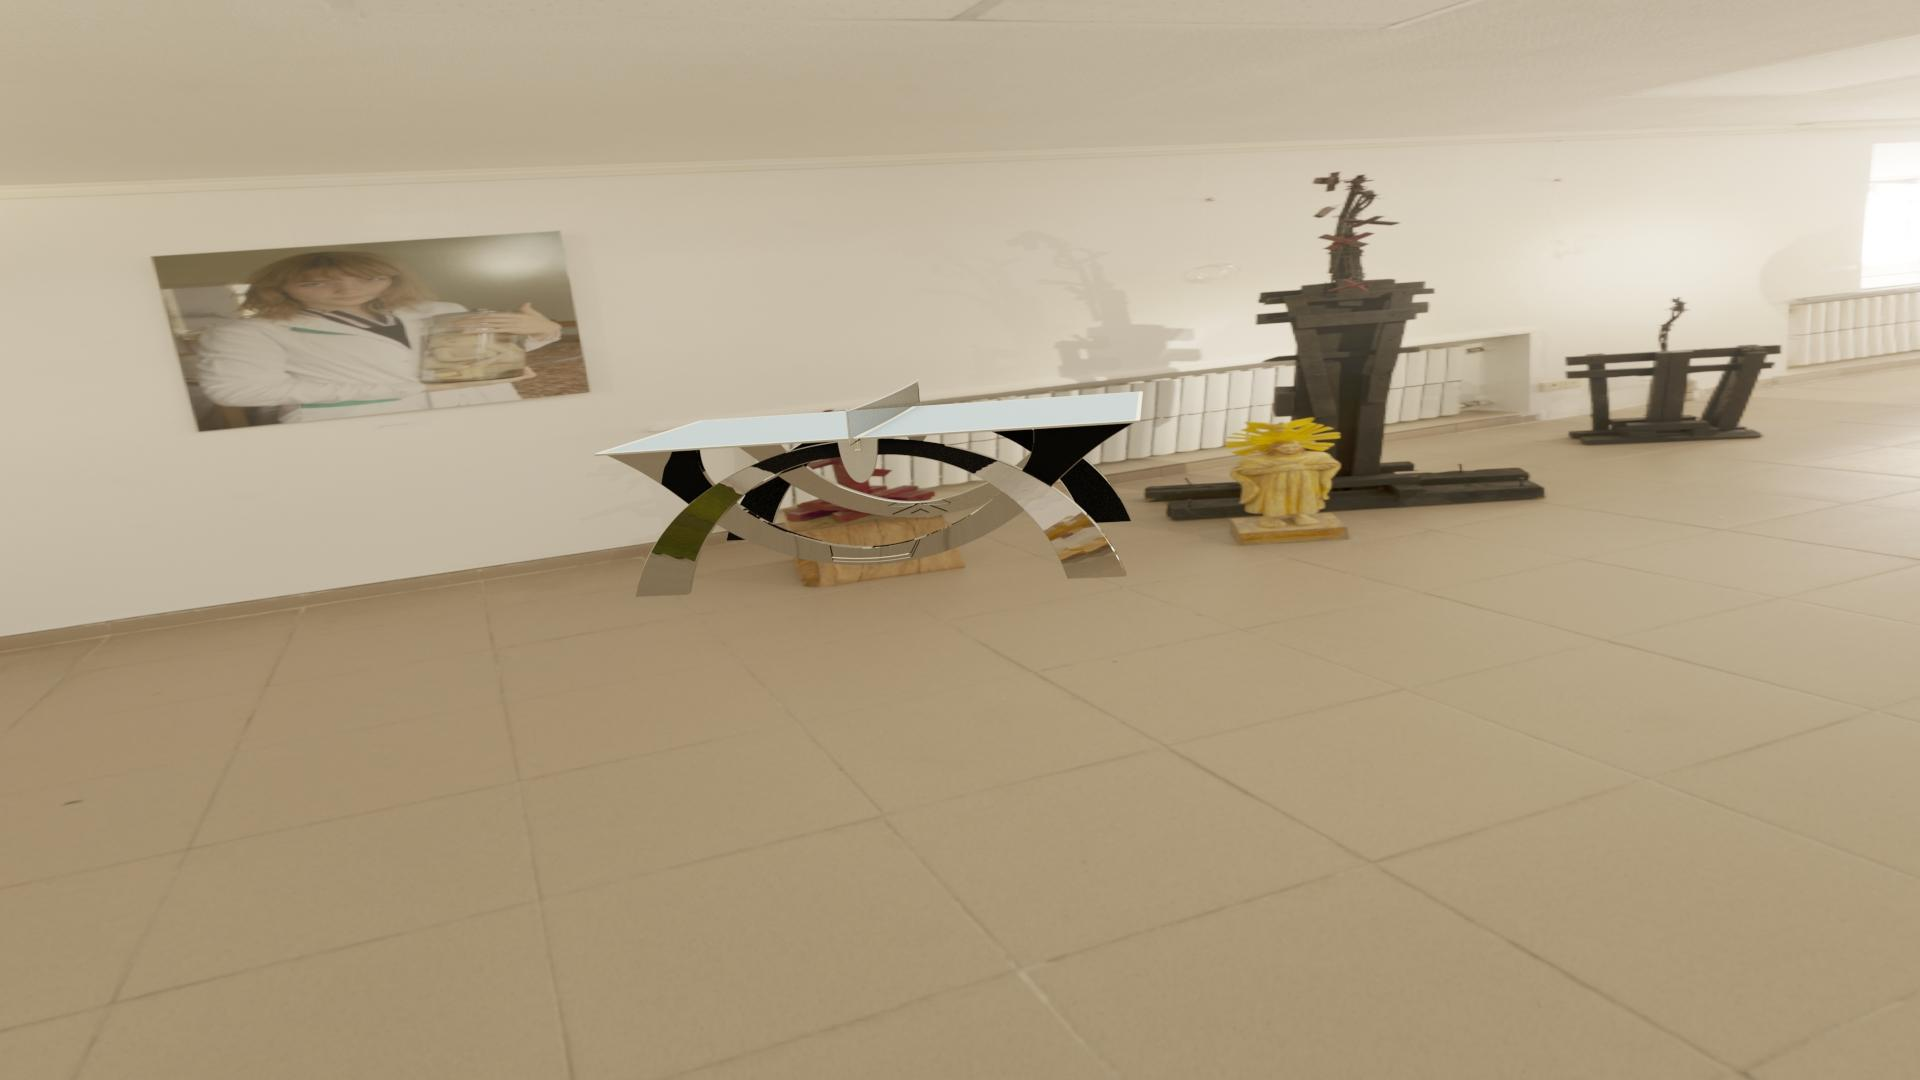table: (600, 392, 1139, 454)
